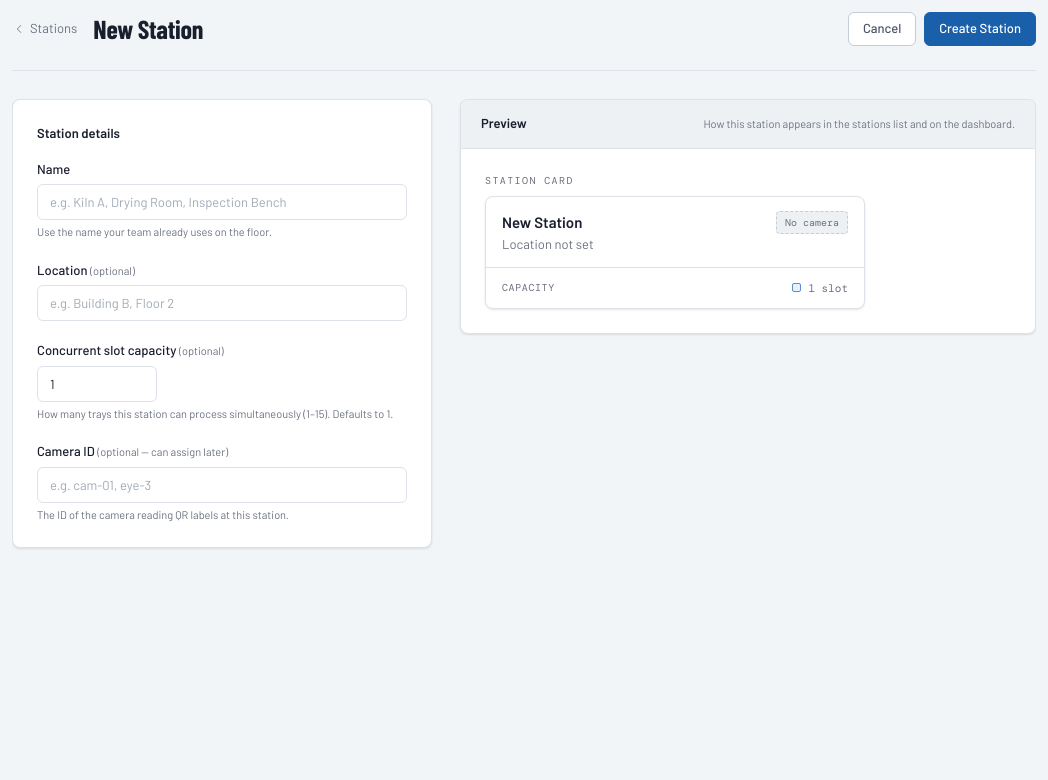
Test case: NewStationView › should display submit error when create fails
The width and height of the screenshot is (1048, 780).
Type "Polishing" into the field with placeholder "e.g. Kiln A, Drying Room, Inspection Bench". click: (222, 202)
box: [37,184,407,220]
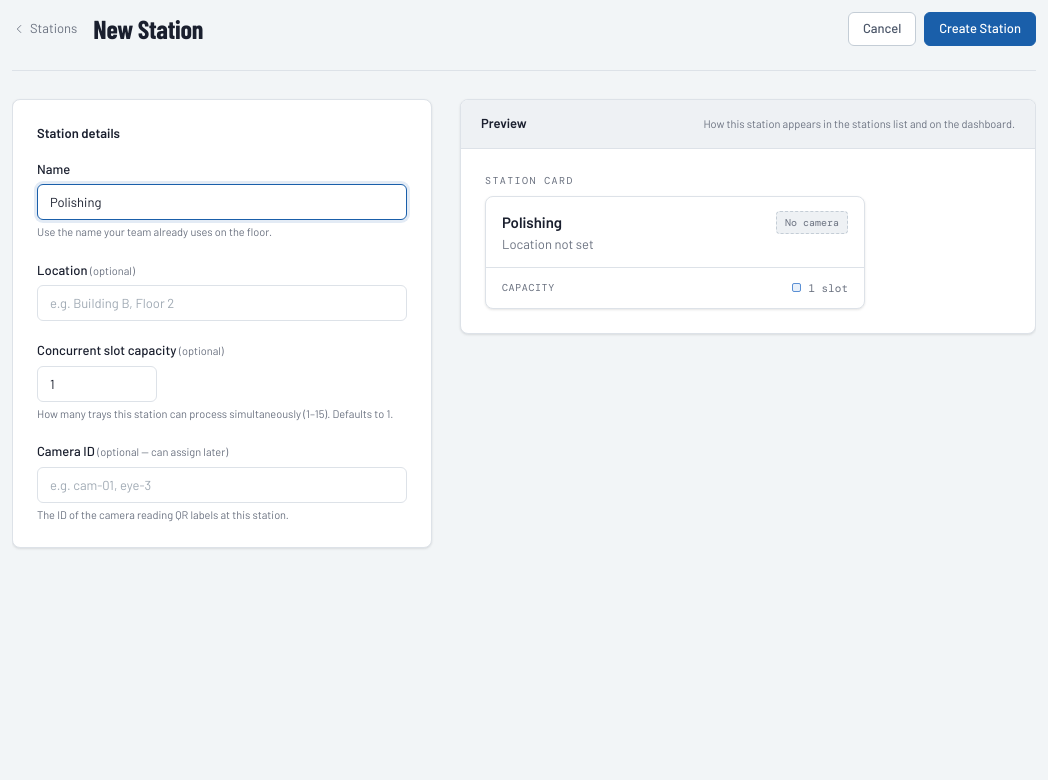
Click the button "Create Station". click: (980, 29)
box: [924,12,1036,46]
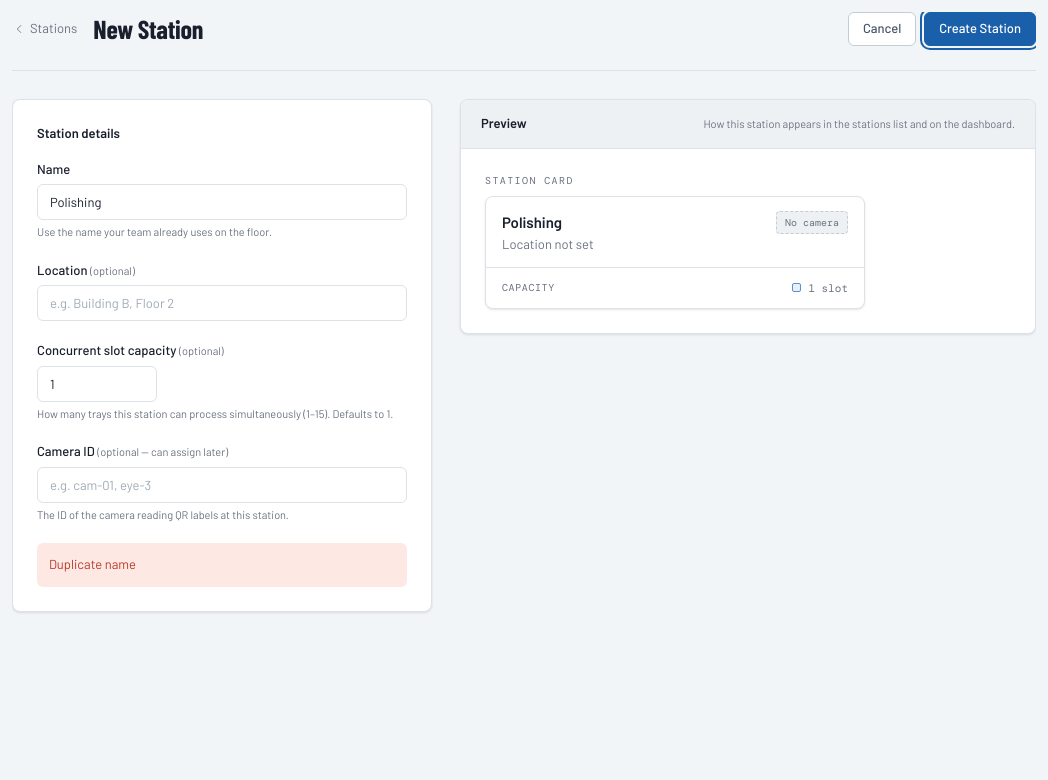
Expected: the text "Duplicate name" is shown, [37,543,407,586]
